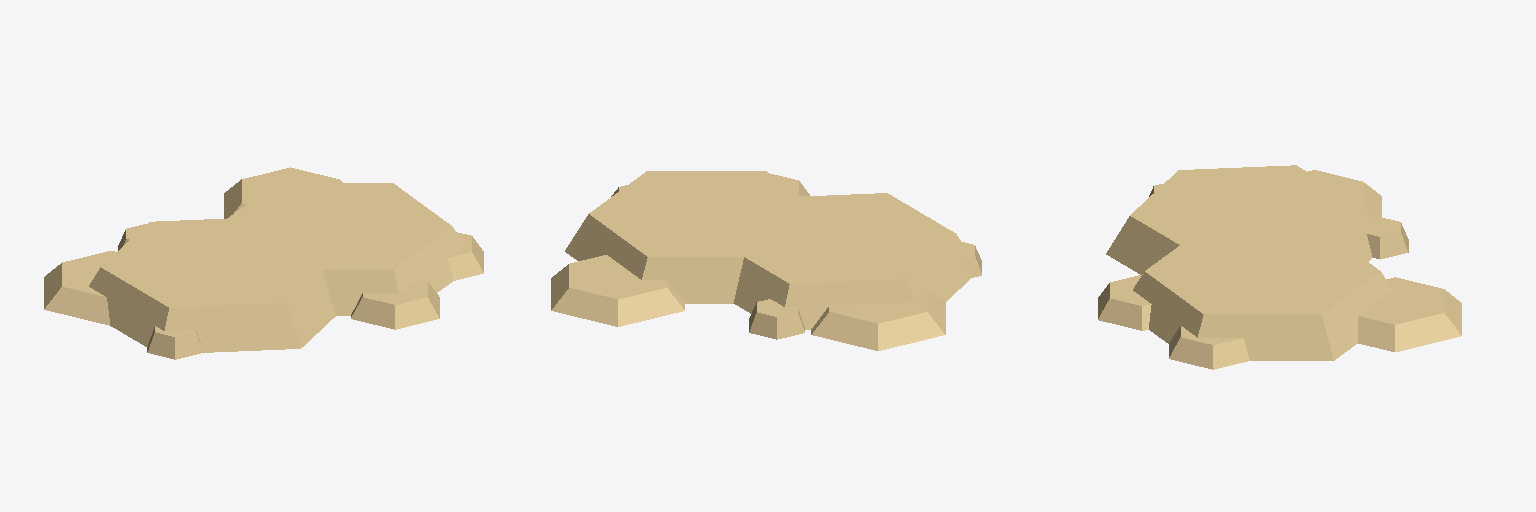
File: rockFlat.obj
3 renders of one model, left to right at view 1: azimuth 30°, elevation 25°; view 2: azimuth 150°, elevation 25°; view 3: azimuth 270°, elevation 25°, orthographic.
Visible parts, largest first — view 1: rockFlat; view 2: rockFlat; view 3: rockFlat.
Part boxes in pixels (x1,y1,x2,y2): rockFlat: (44,167,483,359); rockFlat: (551,171,981,350); rockFlat: (1098,165,1461,369).
Size of the model in its own units: 1.79 by 0.165 by 1.45.